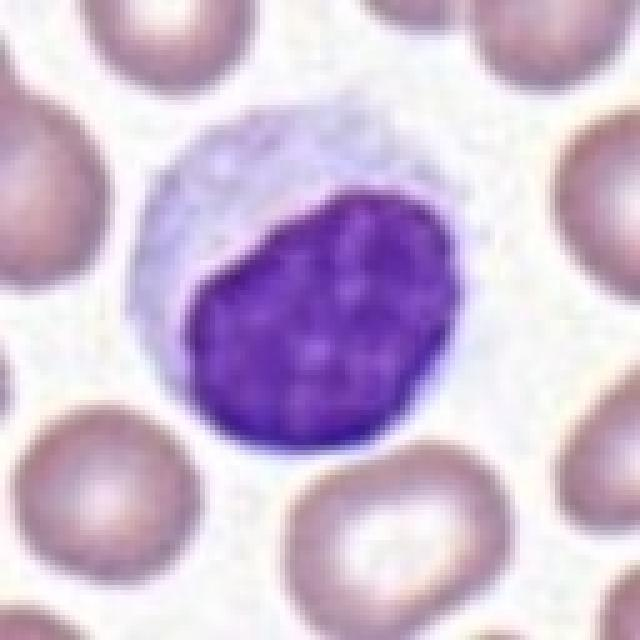lympho: (124, 84, 476, 461)
